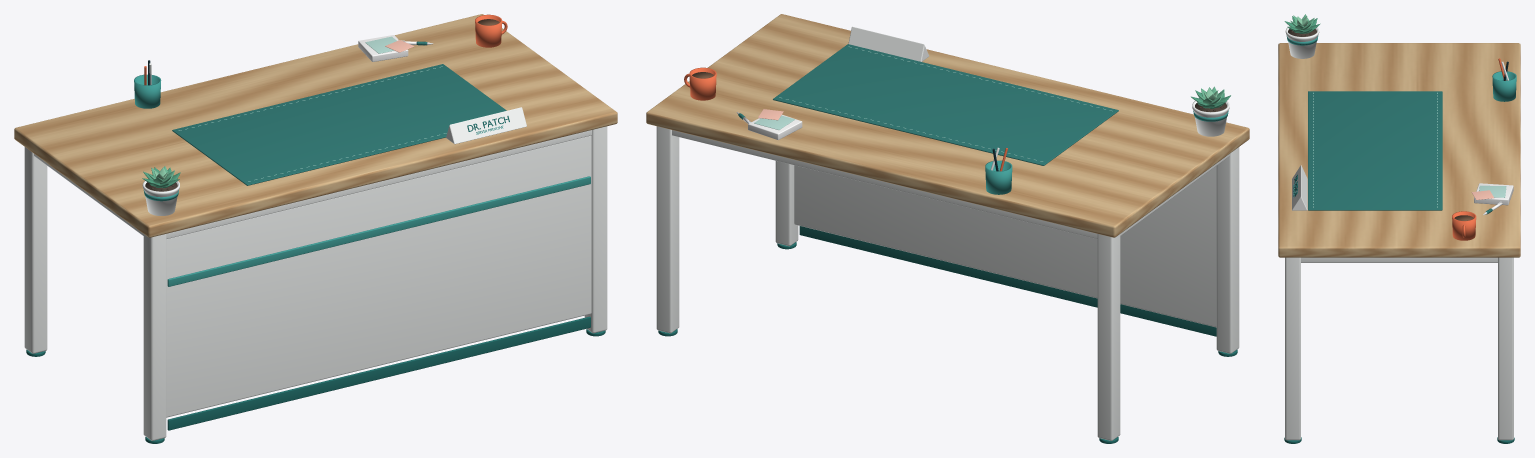
File: desk.glb
3 renders of one model, left to right at view 1: azimuth 30°, elevation 25°; view 2: azimuth 150°, elevation 25°; view 3: azimuth 270°, elevation 25°, orthographic. The views are drawn at different scales.
Visible parts, largest first — view 1: FrontPanel, DeskTop, Pad, PanelBase, Leg-1-1, Leg-11, PanelRail, Leg1-1, Apron, NamePlate, PenCup, Mug (+1 smaller); view 2: DeskTop, FrontPanel, Pad, Leg-11, Leg11, Leg-1-1, PanelBase, Apron, Leg1-1, NamePlate, PenCup, Mug (+2 smaller); view 3: DeskTop, Pad, Leg1-1, Leg11, Apron, PenCup, NamePlate, Mug, Pot, Memo, Sticky1.
Part boxes in pixels (x1=…): FrontPanel: x1=166, y1=135, x2=591, y2=417; DeskTop: x1=14, y1=14, x2=617, y2=237; Pad: x1=172, y1=64, x2=506, y2=185; PanelBase: x1=167, y1=316, x2=590, y2=430; Leg-1-1: x1=143, y1=234, x2=166, y2=440; Leg-11: x1=24, y1=147, x2=47, y2=353; PanelRail: x1=167, y1=176, x2=590, y2=286; Leg1-1: x1=584, y1=126, x2=607, y2=333; Apron: x1=34, y1=130, x2=591, y2=238; NamePlate: x1=446, y1=107, x2=526, y2=144; PenCup: x1=134, y1=74, x2=161, y2=108; Mug: x1=475, y1=14, x2=501, y2=47; DeskTop: x1=646, y1=14, x2=1249, y2=237; FrontPanel: x1=794, y1=165, x2=1216, y2=327; Pad: x1=773, y1=44, x2=1118, y2=165; Leg-11: x1=1097, y1=234, x2=1120, y2=440; Leg11: x1=656, y1=126, x2=679, y2=333; Leg-1-1: x1=1216, y1=147, x2=1239, y2=353; PanelBase: x1=799, y1=226, x2=1216, y2=336; Apron: x1=672, y1=130, x2=1229, y2=238; Leg1-1: x1=775, y1=161, x2=798, y2=246; NamePlate: x1=848, y1=26, x2=929, y2=61; PenCup: x1=985, y1=160, x2=1012, y2=194; Mug: x1=689, y1=67, x2=716, y2=100; DeskTop: x1=1278, y1=43, x2=1520, y2=257; Pad: x1=1308, y1=91, x2=1442, y2=210; Leg1-1: x1=1285, y1=257, x2=1300, y2=440; Leg11: x1=1498, y1=257, x2=1513, y2=440; Apron: x1=1301, y1=257, x2=1497, y2=262; PenCup: x1=1492, y1=71, x2=1516, y2=101; NamePlate: x1=1292, y1=165, x2=1307, y2=210; Mug: x1=1452, y1=211, x2=1476, y2=240; Pot: x1=1285, y1=26, x2=1319, y2=58; Memo: x1=1474, y1=183, x2=1513, y2=205; Sticky1: x1=1479, y1=185, x2=1506, y2=197.
Bounding box in the file's own units: 18 × 9.67 × 9.
Materials: 20 (1 with a texture image).
